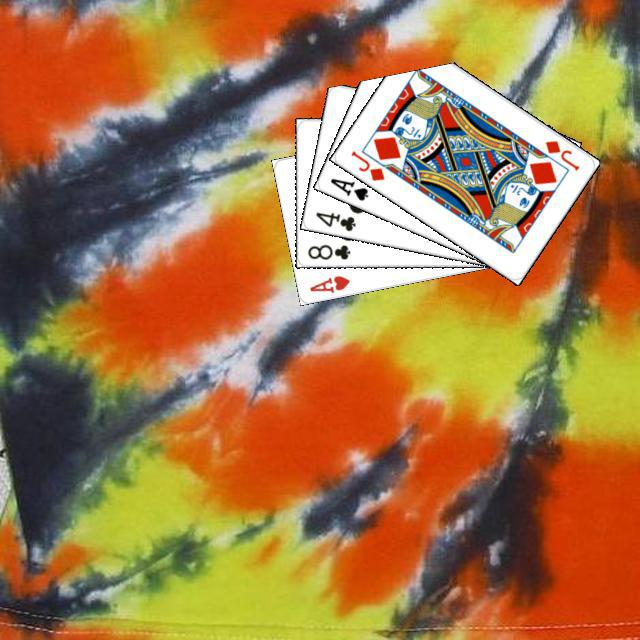4c: (311, 207, 358, 233)
8c: (303, 240, 352, 261)
Ah: (304, 270, 352, 294)
As: (325, 173, 370, 203)
Jd: (346, 145, 387, 183), (540, 135, 581, 173)
